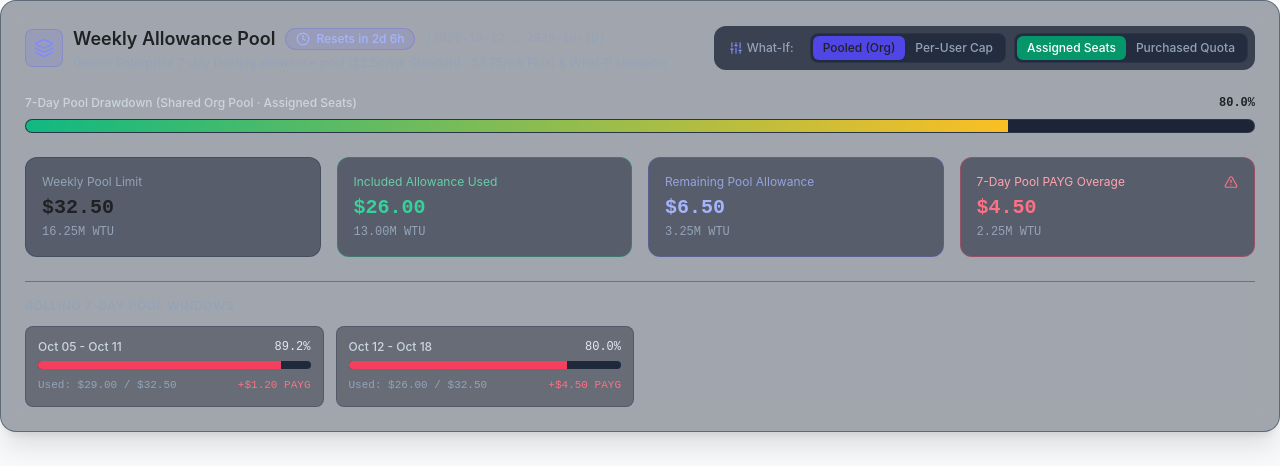
WeeklyAllowancePoolCard › switches What-If scenarios interactively between Pooled / Per-User and Assigned / Purchased
This screenshot has width=1280, height=466.
Switch to Purchased Quota
What coordinates should you click on to do the following:
click the button "Purchased Quota"
I would click on:
 (1185, 48)
Its box is x1=1126 y1=36 x2=1245 y2=60.
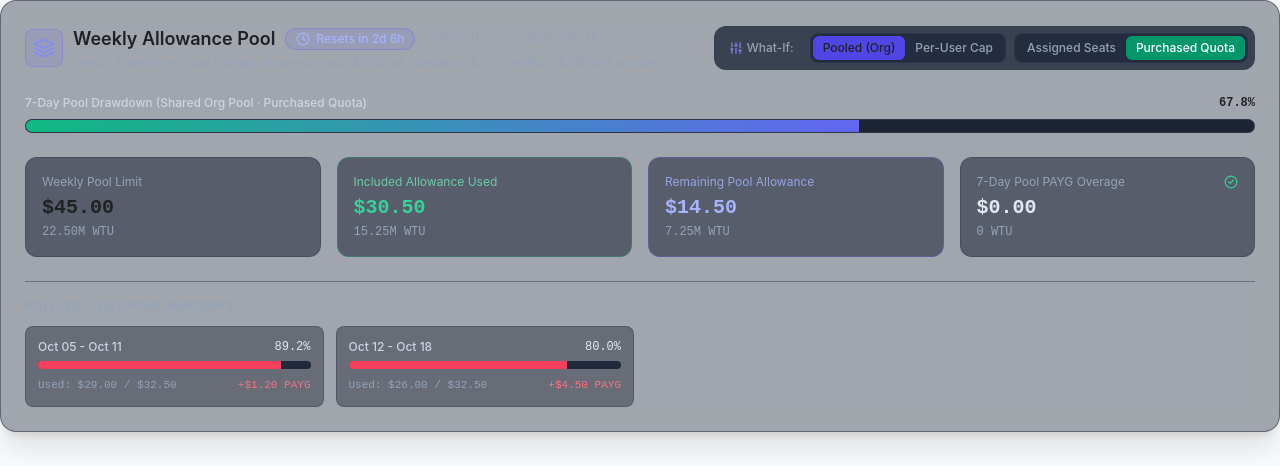
Now the text "67.8%" is shown, box x1=1219 y1=95 x2=1255 y2=111
Now the text "$30.50" is shown, box x1=354 y1=196 x2=426 y2=219
Now the text "$45.00" is shown, box x1=42 y1=196 x2=114 y2=219
Switch to Per-User Cap
What coordinates should you click on to do the following:
click the button "Per-User Cap"
I would click on:
 (954, 48)
Its box is x1=905 y1=36 x2=1003 y2=60.
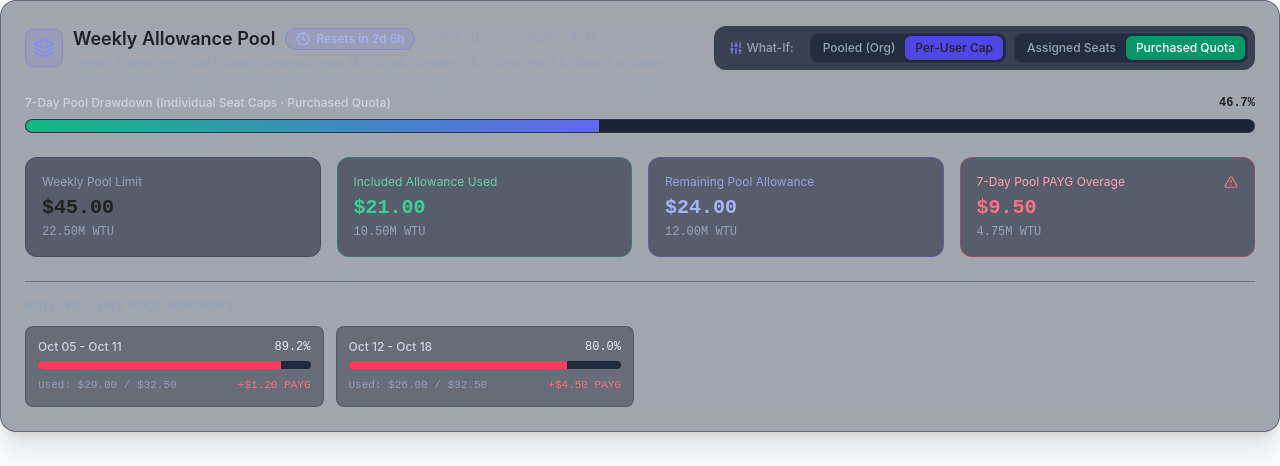
Now the text "46.7%" is shown, box x1=1219 y1=95 x2=1255 y2=111
Now the text "$21.00" is shown, box x1=354 y1=196 x2=426 y2=219
Now the text "$9.50" is shown, box x1=976 y1=196 x2=1036 y2=219
